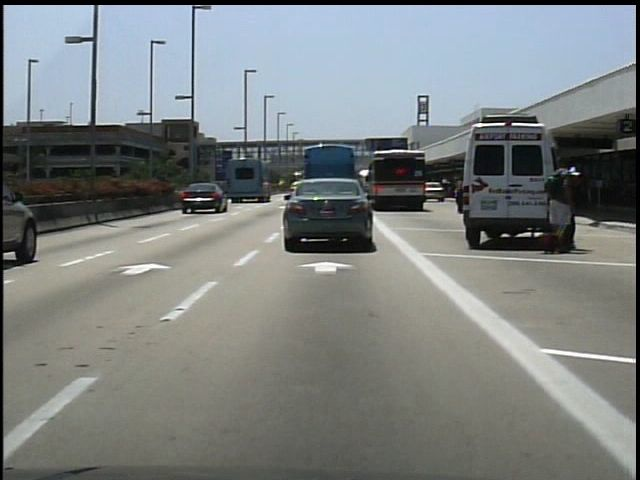person: (549, 158, 581, 256), (568, 167, 581, 251)
